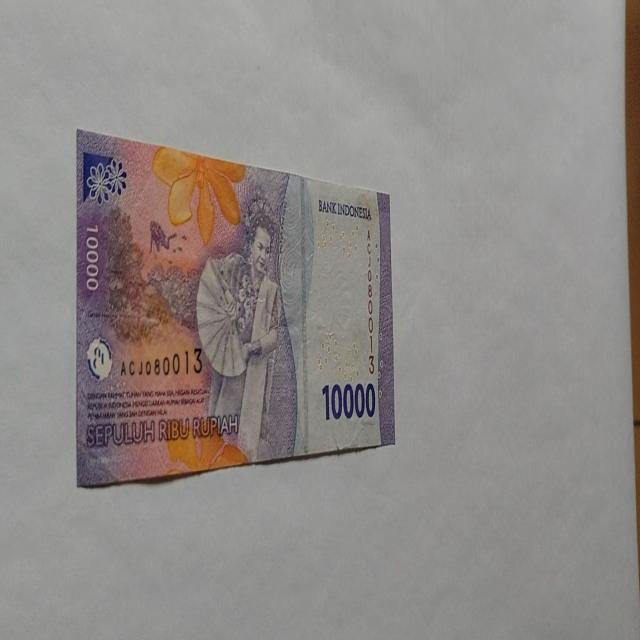sepuluh ribu rupiah: (74, 127, 396, 488)
